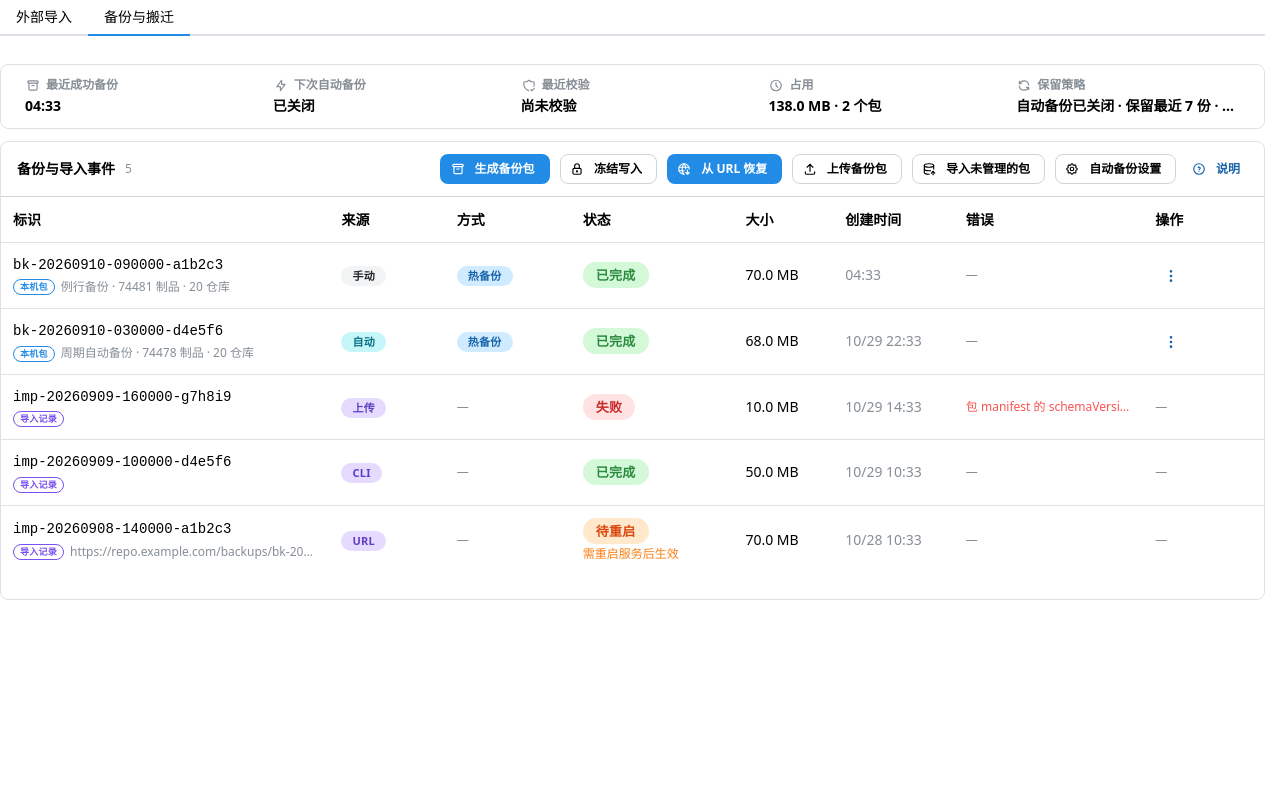
备份与搬迁 › 演练弹窗遇 404 时给出保留策略提示与刷新按钮
Click the button named "更多操作": {"x": 1171, "y": 276} top-left (1155, 265), bottom-right (1187, 287)
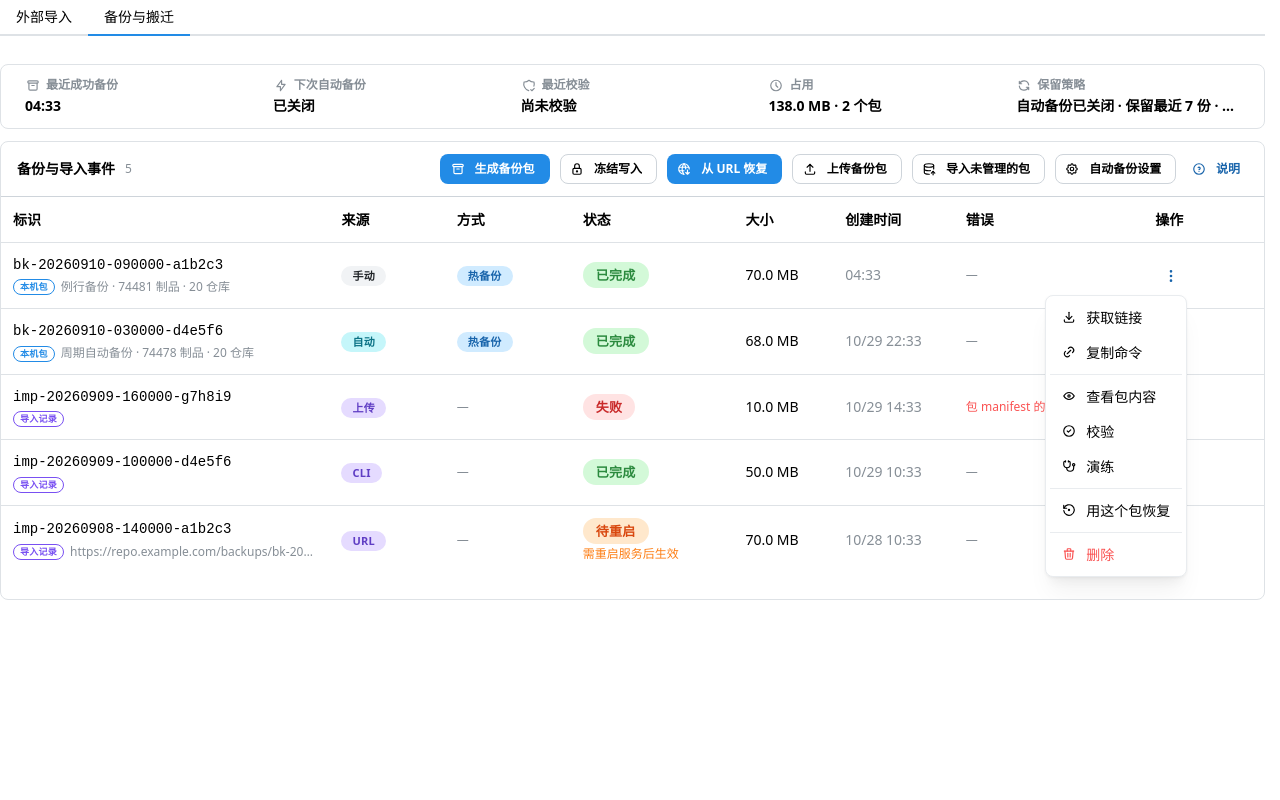
Click the menu item "演练": {"x": 1116, "y": 466} top-left (1050, 449), bottom-right (1182, 484)
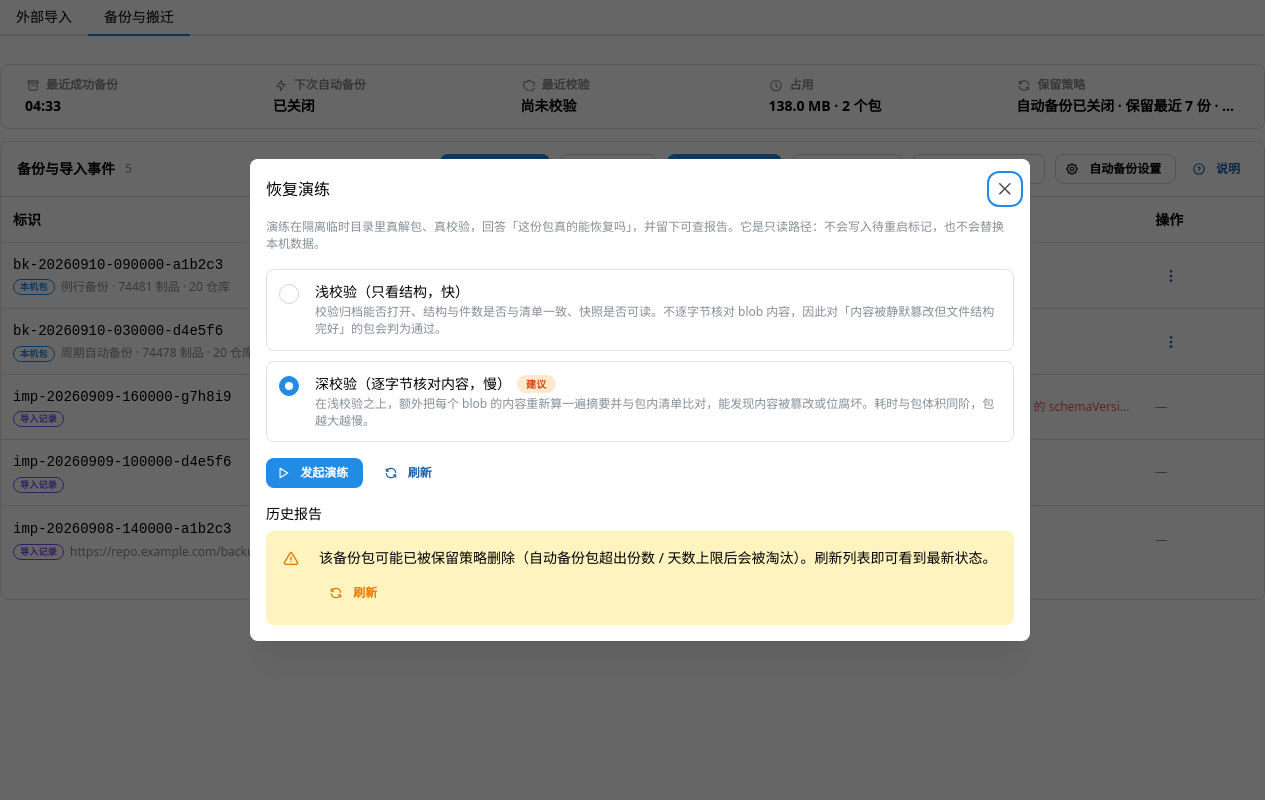
expect the text "该备份包可能已被保留策略删除（自动备份包超出份数 / 天数上限后会被淘汰）。刷新列表即可看到最新状态。" is shown: met, box top-left (319, 548), bottom-right (997, 568)
expect the text "该备份包可能已被保留策略删除（自动备份包超出份数 / 天数上限后会被淘汰）。刷新列表即可看到最新状态。 刷新" is shown: met, box top-left (266, 531), bottom-right (1014, 625)
expect the button "刷新" below "历史报告" is shown: met, box top-left (319, 578), bottom-right (392, 608)
